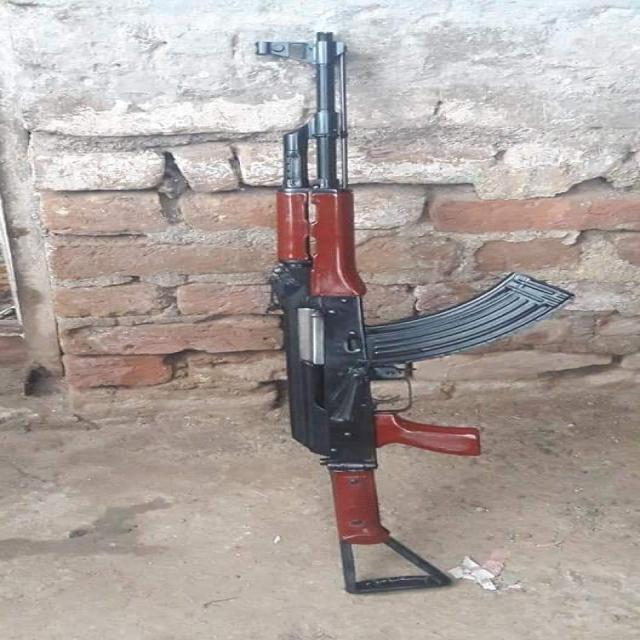ak: (227, 24, 596, 594)
